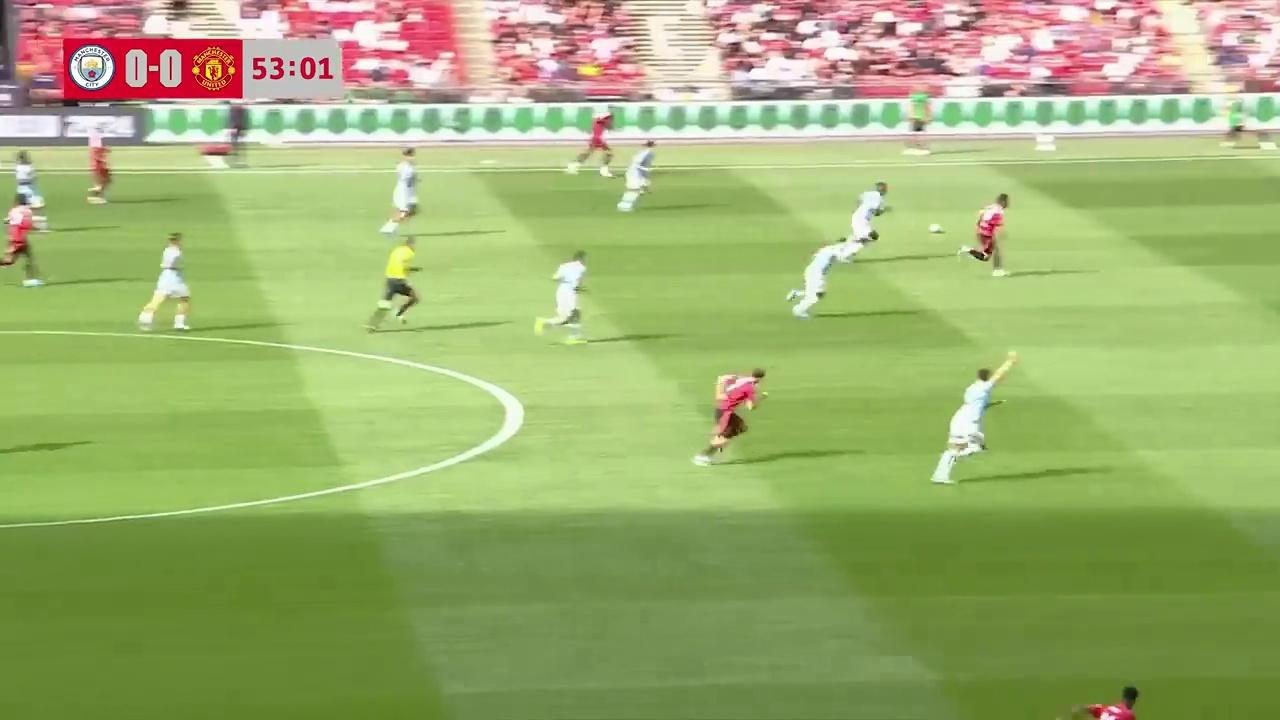ball: (927, 219, 944, 235)
player: (932, 365, 1016, 483), (698, 369, 768, 459), (138, 233, 191, 332), (830, 181, 890, 263), (536, 250, 587, 336), (0, 198, 45, 287), (962, 193, 1009, 274), (786, 246, 835, 320), (4, 150, 47, 218), (571, 111, 613, 176), (617, 145, 654, 212), (391, 148, 420, 224), (1080, 684, 1140, 720), (86, 131, 112, 204)
referee: (365, 229, 421, 326)
